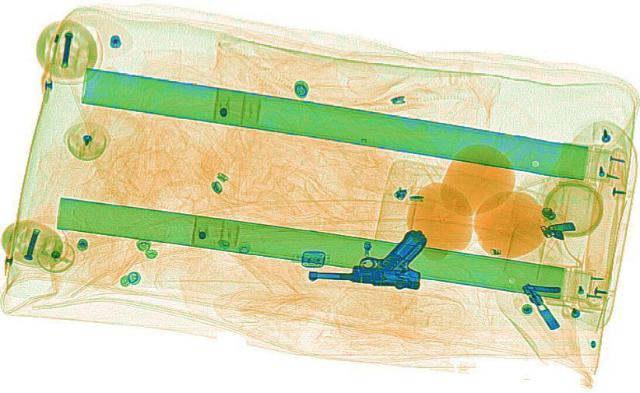Gun: (303, 221, 431, 287)
